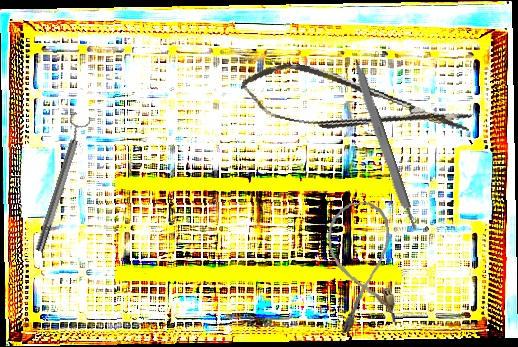Cannula: (324, 199, 400, 334)
Fixation Ring: (27, 110, 94, 255)
Micro Scissor: (236, 53, 476, 158)
Scalpel Handle: (348, 58, 420, 234)
